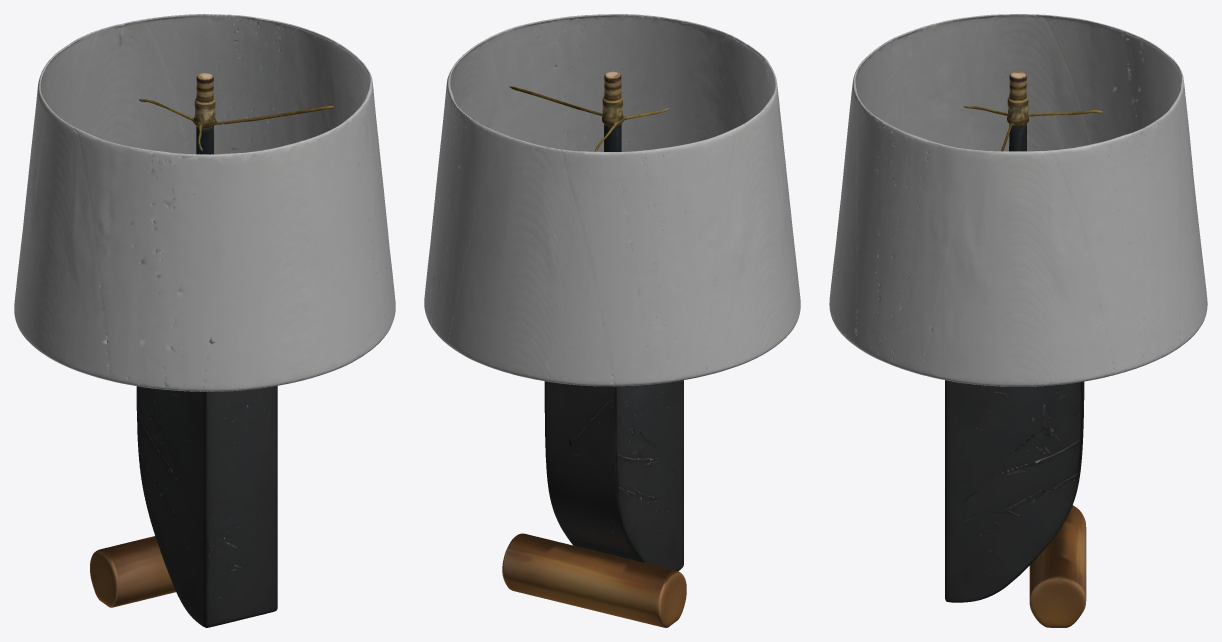
Rendered from c10-stylized.glb.
3 views of the same model, side by side, from view 1: azimuth 30°, elevation 25°; view 2: azimuth 150°, elevation 25°; view 3: azimuth 270°, elevation 25° (orthographic).
Visible parts, largest first — view 1: tripo_node_30a62528-67ce-401b-b03a-64bd24205f64; view 2: tripo_node_30a62528-67ce-401b-b03a-64bd24205f64; view 3: tripo_node_30a62528-67ce-401b-b03a-64bd24205f64.
Boxes of the visible parts, box(x1,y1,x2,y2) form: tripo_node_30a62528-67ce-401b-b03a-64bd24205f64: box(14, 14, 395, 627); tripo_node_30a62528-67ce-401b-b03a-64bd24205f64: box(424, 14, 800, 627); tripo_node_30a62528-67ce-401b-b03a-64bd24205f64: box(829, 14, 1207, 627).
Size of the model in its own units: 0.6635 by 1 by 0.6628.
Materials: 1 (1 with a texture image).
